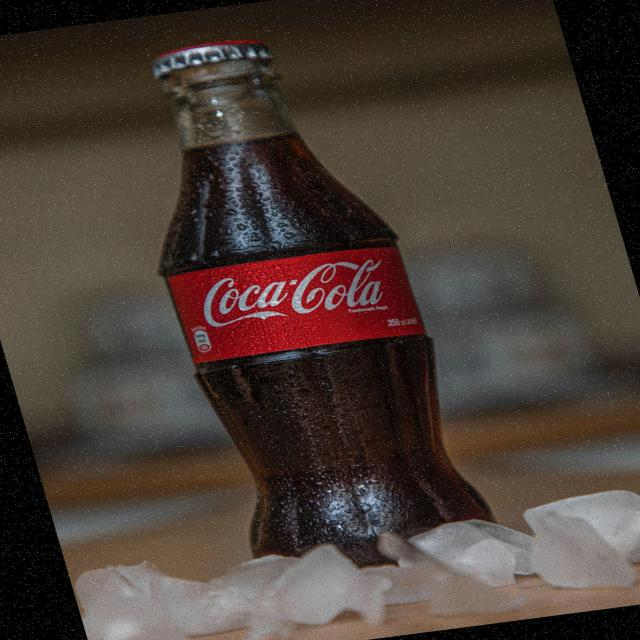coca-cola: (181, 245, 401, 348)
